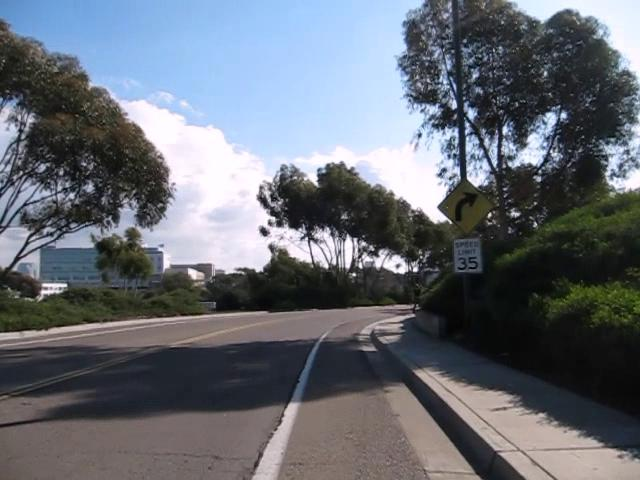speedLimit35: (452, 236, 483, 273)
